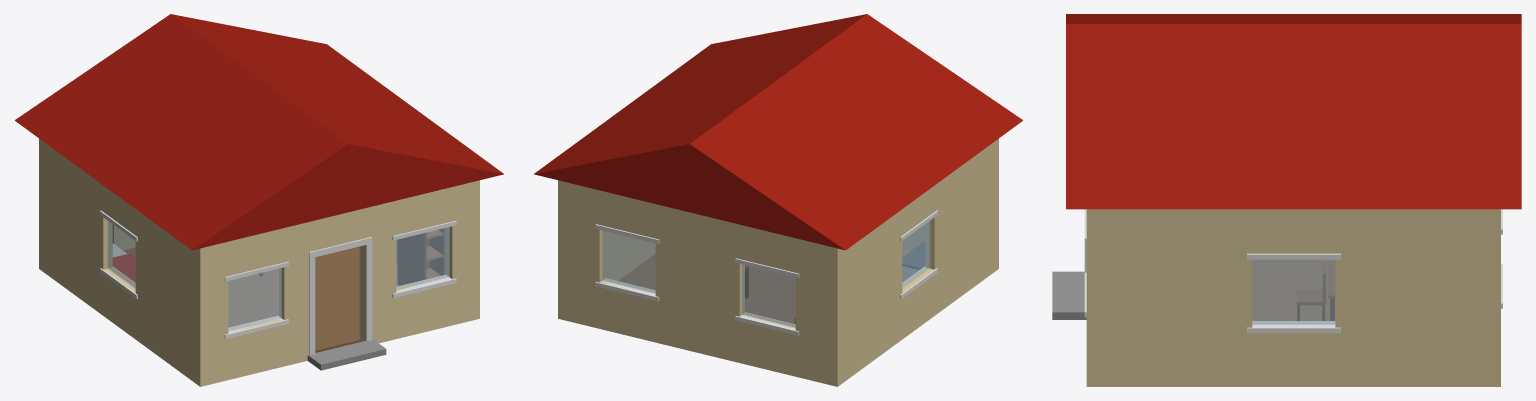
File: house.glb
3 views of the same model, side by side, from view 1: azimuth 30°, elevation 25°; view 2: azimuth 150°, elevation 25°; view 3: azimuth 270°, elevation 25° (orthographic). The views are drawn at different scales.
Parts seen in each view (by area): view 1: house-roof, house-walls, house-furniture, glass_1, glass_0, glass_5; view 2: house-roof, house-walls, glass_2, glass_3, glass_5, house-furniture; view 3: house-roof, house-walls, glass_4, house-furniture.
Part boxes in pixels (bbox=[...]): house-roof: bbox=[15, 14, 503, 250]; house-walls: bbox=[39, 138, 479, 386]; house-furniture: bbox=[112, 224, 445, 285]; glass_1: bbox=[396, 227, 449, 290]; glass_0: bbox=[228, 268, 281, 330]; glass_5: bbox=[107, 220, 135, 288]; house-roof: bbox=[534, 14, 1022, 250]; house-walls: bbox=[558, 138, 998, 386]; glass_2: bbox=[742, 264, 795, 327]; glass_3: bbox=[602, 230, 655, 293]; glass_5: bbox=[902, 221, 930, 288]; house-furniture: bbox=[745, 241, 925, 323]; house-roof: bbox=[1066, 14, 1521, 209]; house-walls: bbox=[1052, 209, 1502, 386]; glass_4: bbox=[1252, 259, 1335, 324]; house-furniture: bbox=[1296, 260, 1335, 320].
Bounding box in the file's own units: 6.7 × 4.4 × 6.8.
